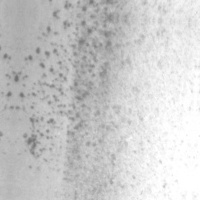pitted_surface: (10, 12, 151, 192)
